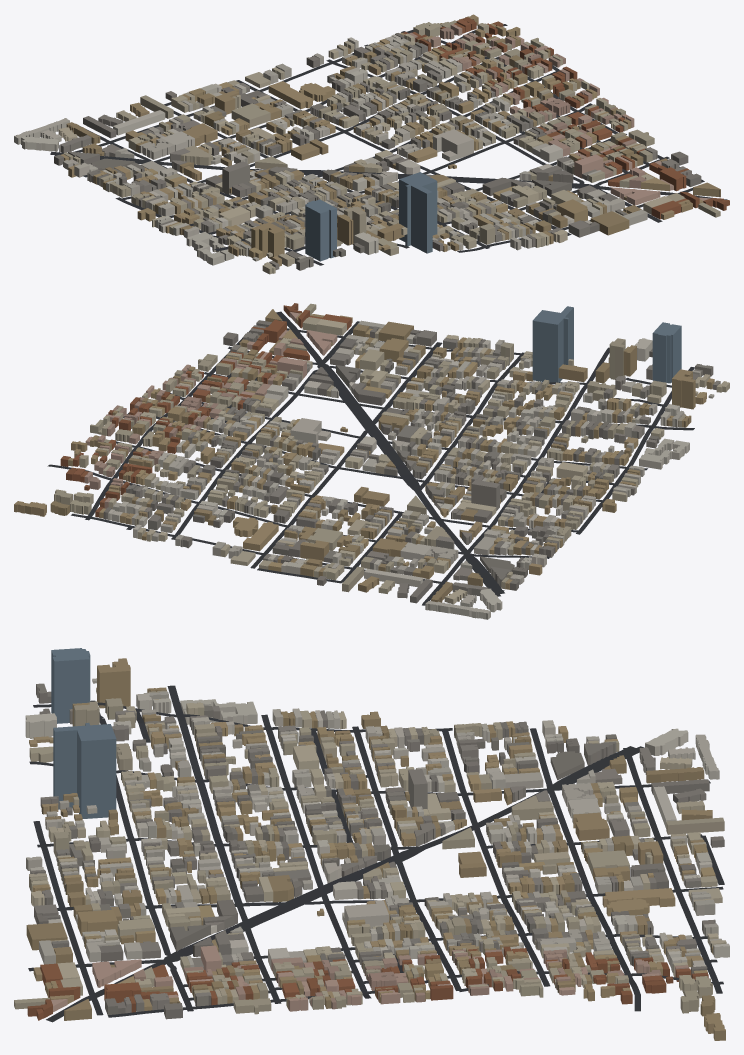
Rendered from tile_12_9.glb.
3 views of the same model, one above another, from view 1: azimuth 30°, elevation 25°; view 2: azimuth 150°, elevation 25°; view 3: azimuth 270°, elevation 25° (orthographic). The views are drawn at different scales.
Visible parts, largest first — view 1: bld_12_9, road_12_9; view 2: bld_12_9, road_12_9; view 3: bld_12_9, road_12_9.
Part boxes in pixels (<box>): bld_12_9: <box>14,14,729,274</box>; road_12_9: <box>50,24,727,265</box>; bld_12_9: <box>14,303,729,619</box>; road_12_9: <box>47,311,694,605</box>; bld_12_9: <box>14,648,729,1040</box>; road_12_9: <box>28,685,724,1022</box>.
Size of the model in its own units: 835 by 167 by 839.
